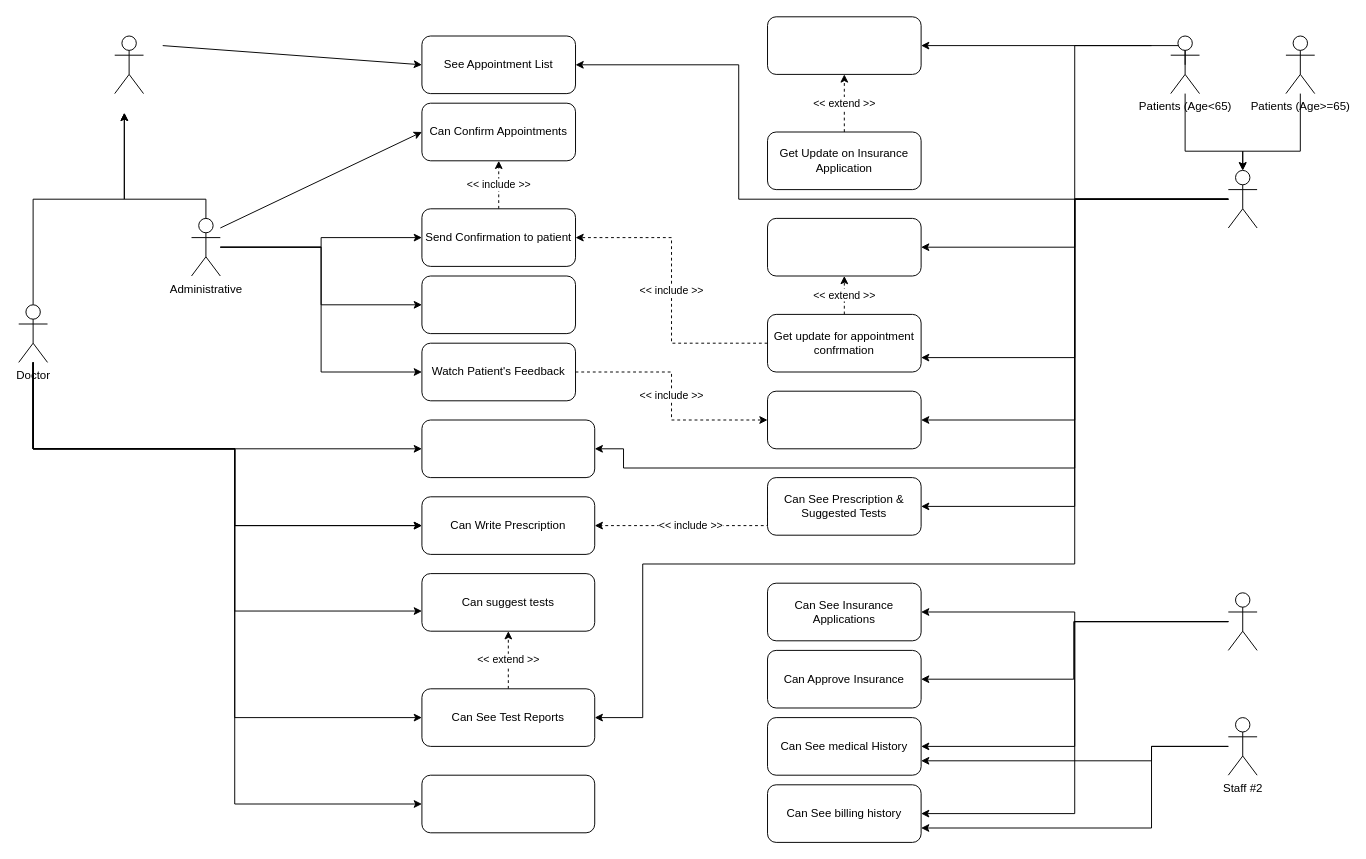
Some shapes in this 1366 by 859 pixel diagram are drawn without their labels. Here are the shapes that lost their labels. From the top down, the centre of each, then its label:
[129,64]: Staff
[844,45]: Apply for Insurance
[1242,198]: Patients
[844,246]: Apply for Appointment
[498,304]: Pay Salary to staffs
[844,419]: Can provide feedback of service
[508,448]: Can Consult Online in video call
[1242,621]: Insurance Provider
[508,803]: Can Refer to another doctor
